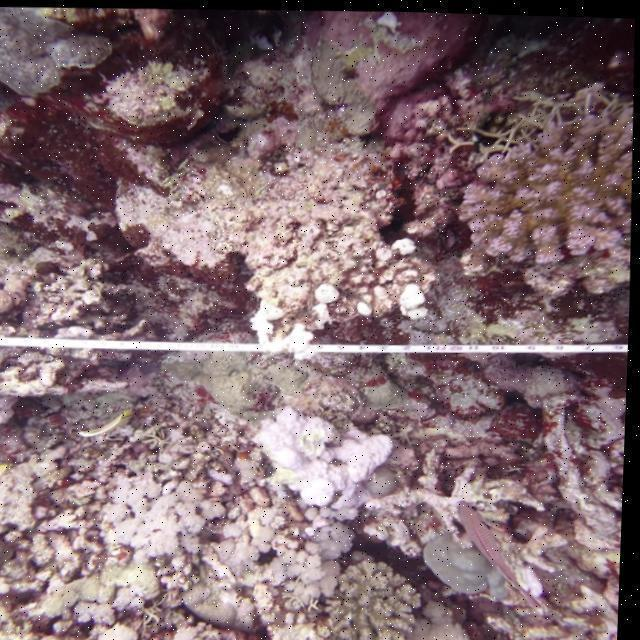Bleached Coral: (250, 369, 416, 528), (102, 465, 207, 558)
Healthy Coral: (472, 129, 640, 268), (309, 547, 429, 640)
